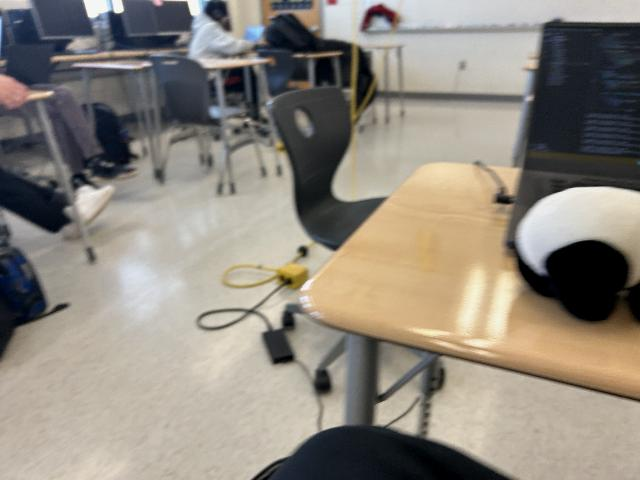panda_plushie: (514, 184, 640, 320)
